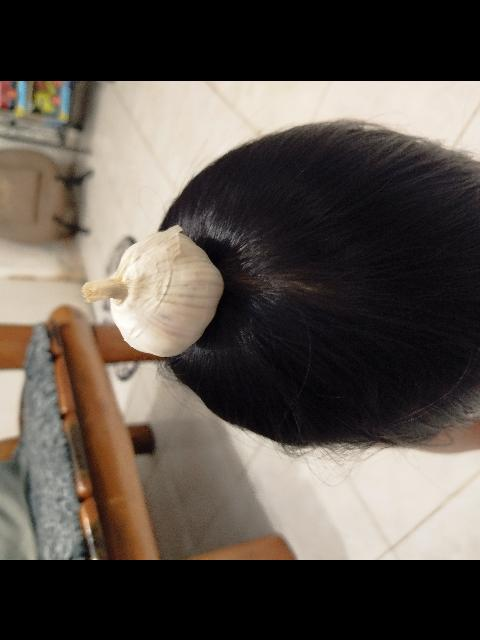garlic: (81, 224, 224, 356)
